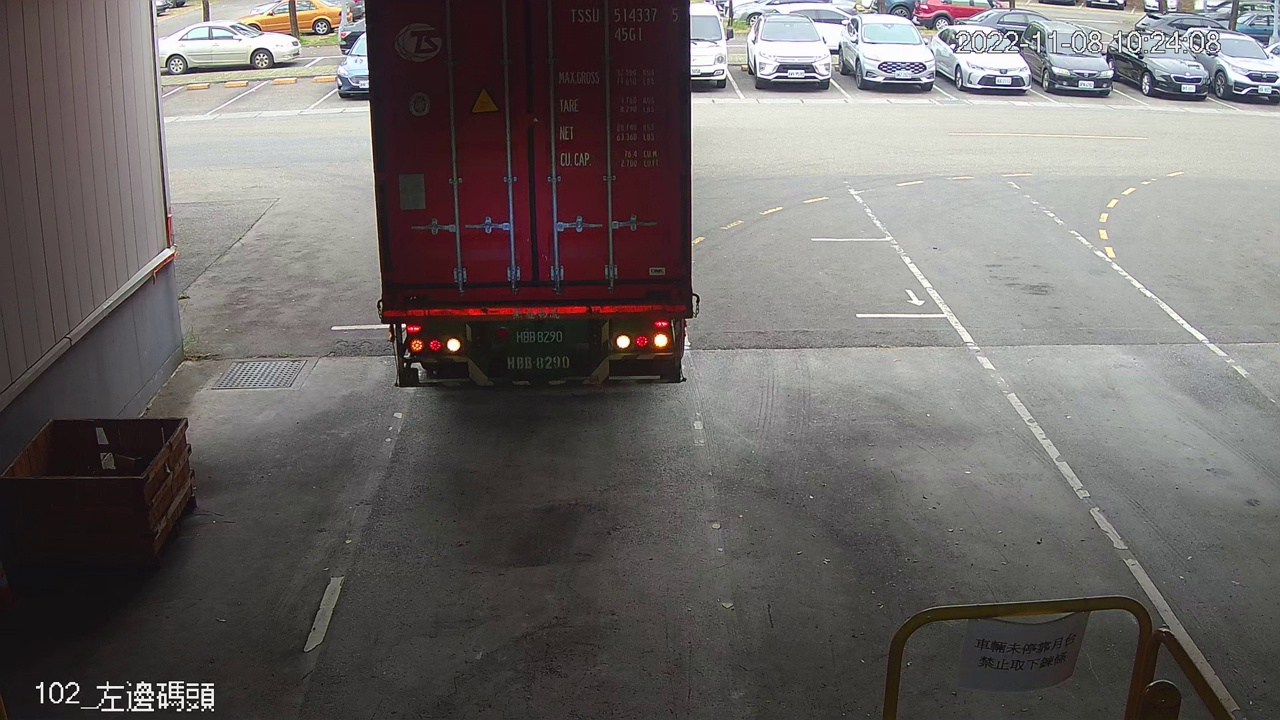container: (566, 1, 683, 46)
